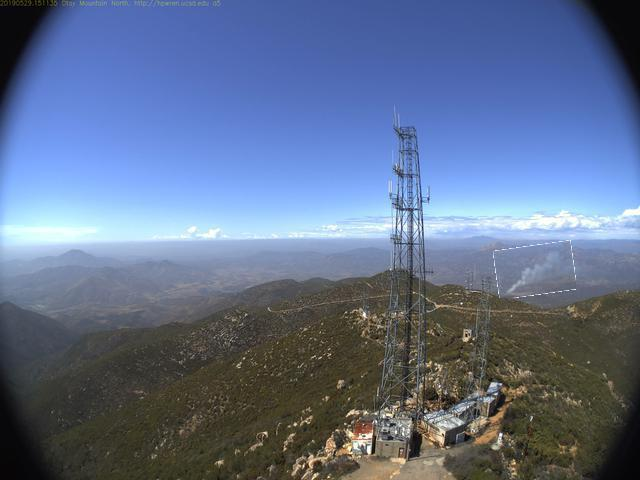smoke: (496, 244, 577, 298)
